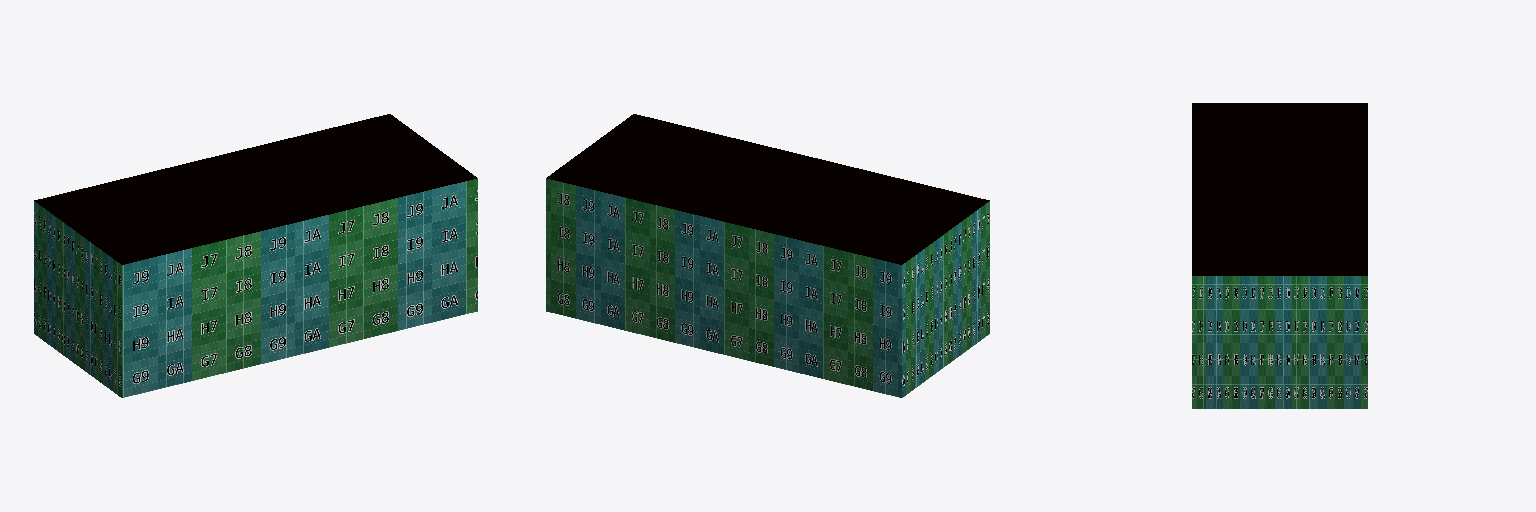
3 views of the same model, side by side, from view 1: azimuth 30°, elevation 25°; view 2: azimuth 150°, elevation 25°; view 3: azimuth 270°, elevation 25° (orthographic).
Visible parts, largest first — view 1: Cube; view 2: Cube; view 3: Cube.
Part boxes in pixels (x1,y1,x2,y2): Cube: (34,114,477,397); Cube: (546,114,989,397); Cube: (1192,103,1367,408).
Size of the model in its own units: 7 by 2.5 by 3.
3 materials, 2 textured.